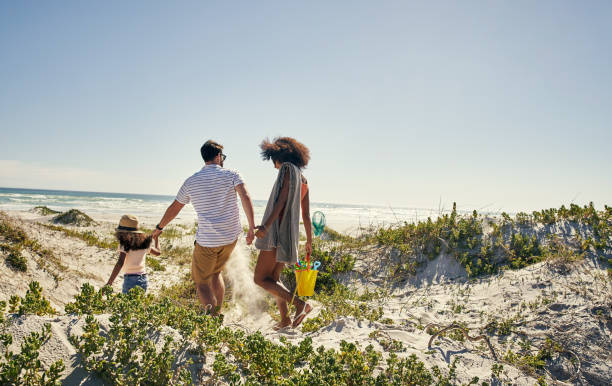without mask: (192, 138, 231, 182)
